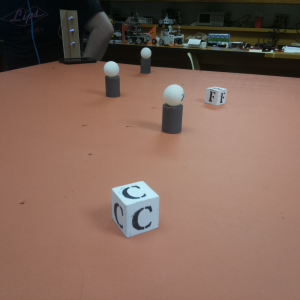blockC: (112, 181, 160, 240), (110, 179, 158, 238)
blockF: (205, 86, 226, 104)
corner: (60, 10, 80, 57)
obstacle: (161, 82, 184, 136), (103, 61, 122, 98), (140, 46, 152, 72)
